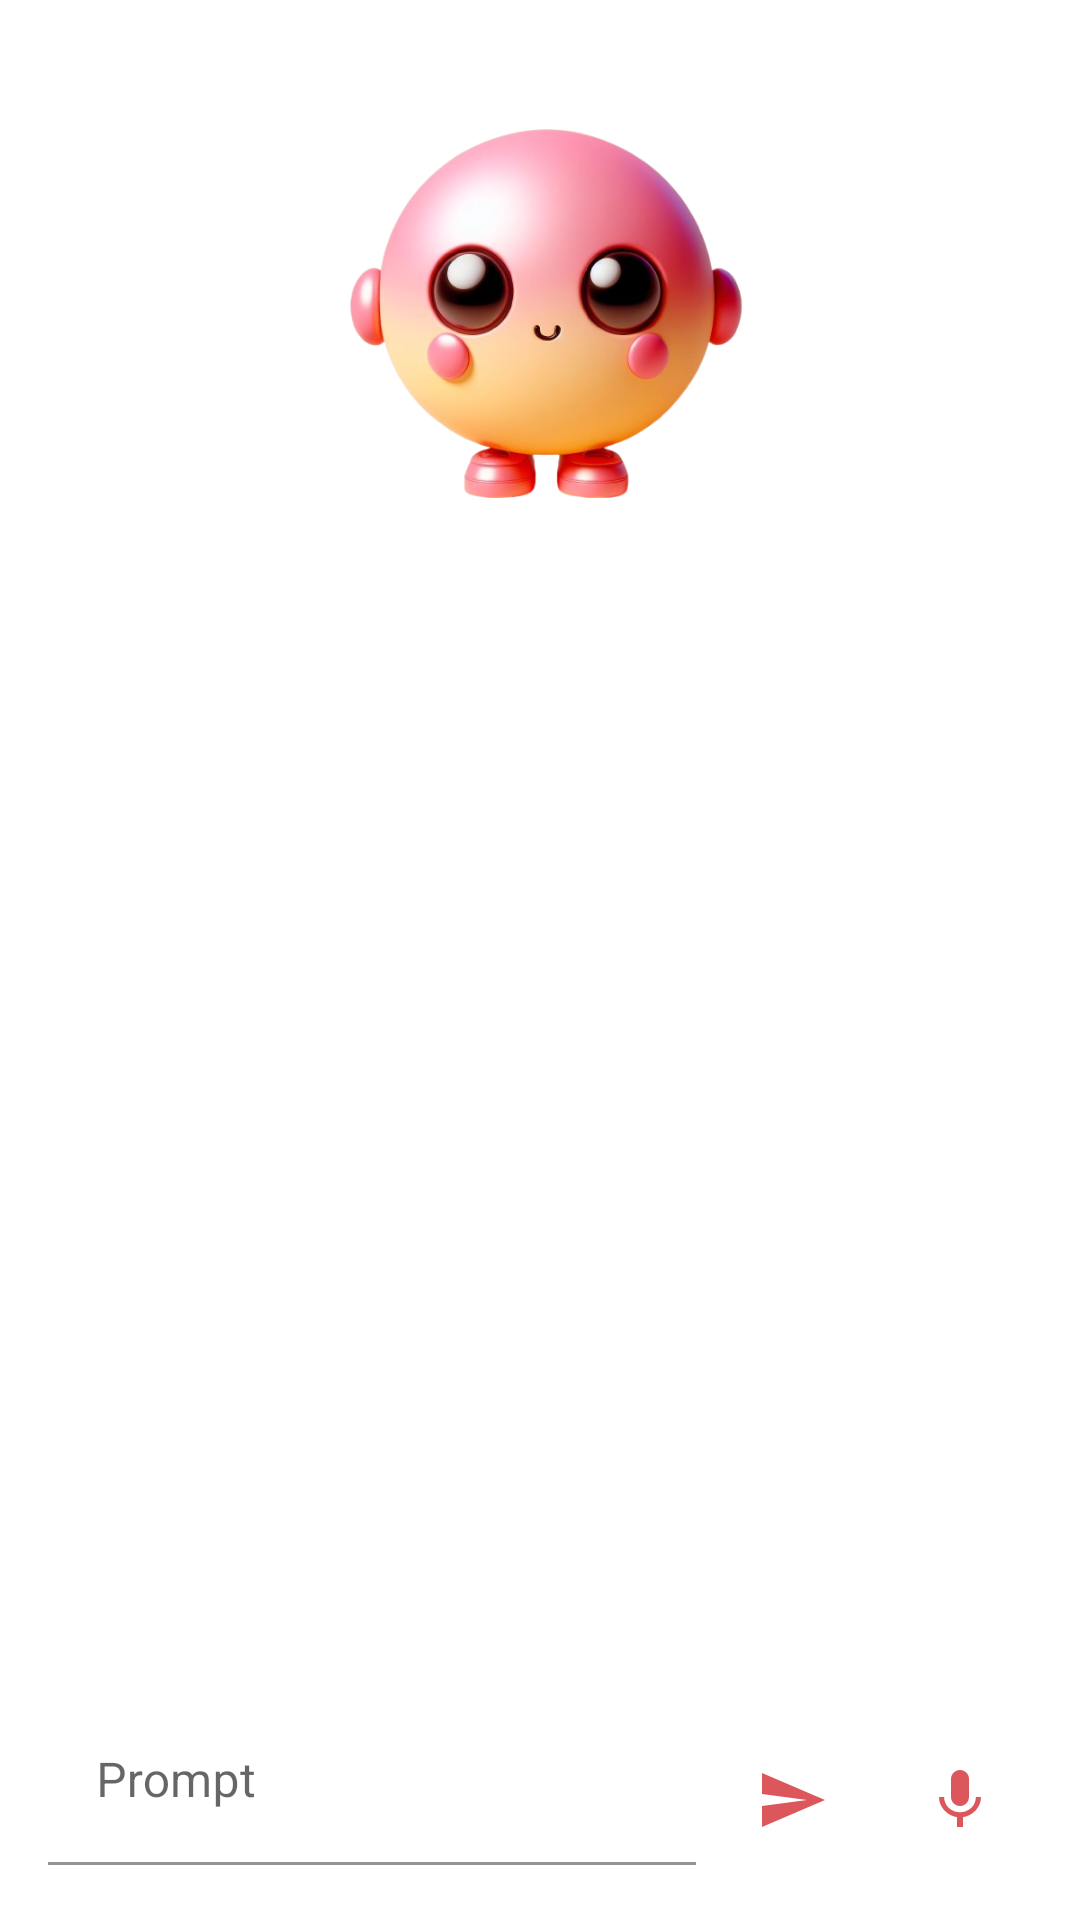

Icons on this 1080 x 1920 Android screen, each with its box as (x1,y1,x2,y2):
mic: (939,1770,981,1827)
send: (762,1773,825,1827)
